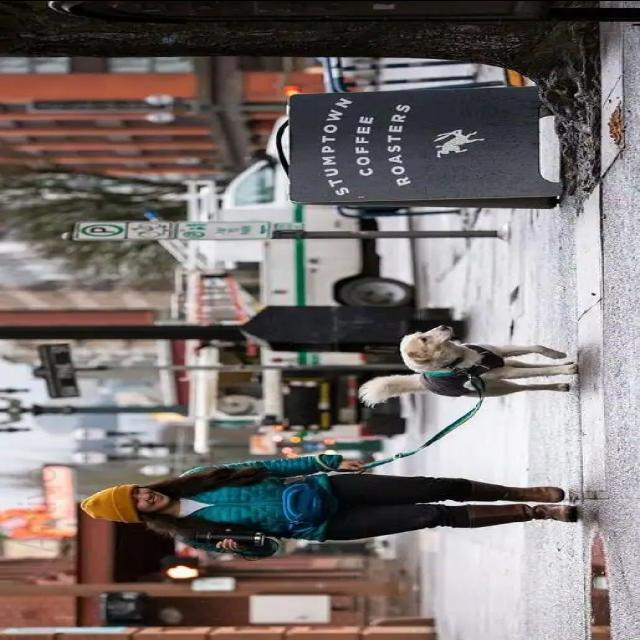Dogs: (357, 322, 586, 404)
